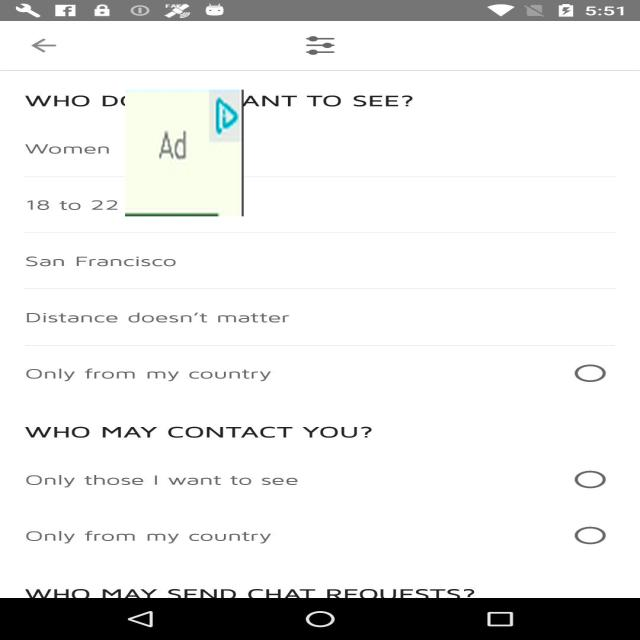sneaking: (125, 90, 244, 216)
